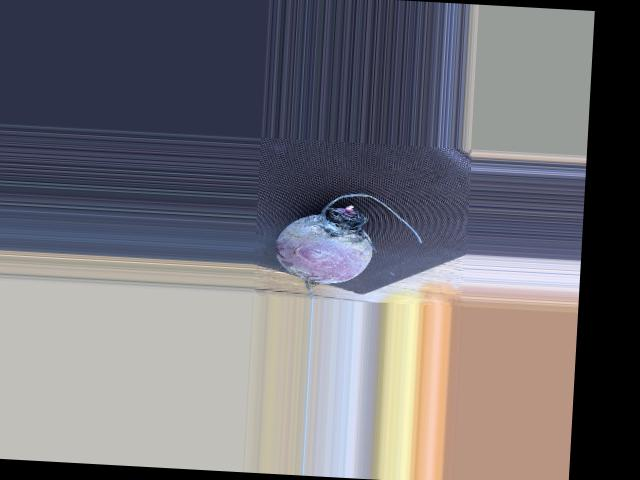beet: (272, 188, 424, 304)
